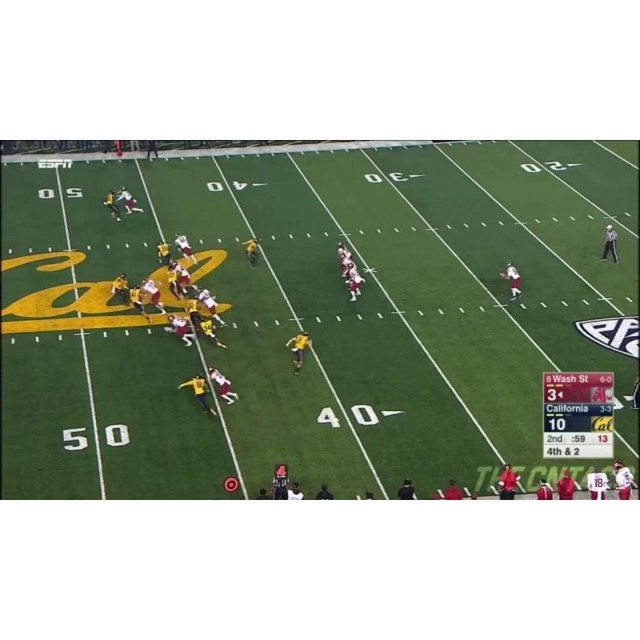american-football-player: (176, 372, 216, 418), (193, 312, 228, 350), (207, 365, 239, 405), (286, 330, 313, 376), (197, 287, 226, 327), (499, 261, 523, 300), (166, 314, 194, 347), (128, 283, 151, 323), (142, 277, 166, 314), (174, 232, 197, 267), (344, 266, 366, 302), (106, 272, 129, 306), (117, 185, 142, 215), (103, 189, 122, 222), (243, 238, 262, 269), (155, 241, 172, 267)
referee: (600, 222, 620, 265)
